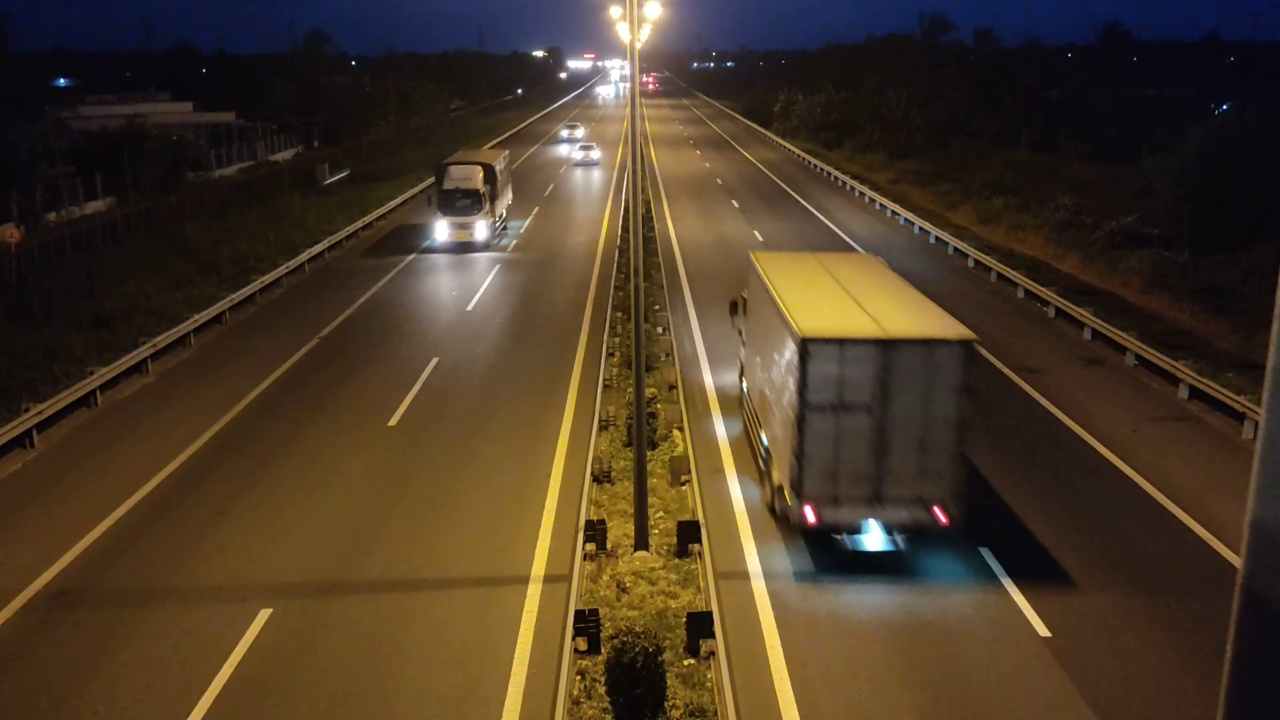car: (569, 142, 602, 167)
truck: (729, 249, 981, 572), (427, 142, 517, 256)
